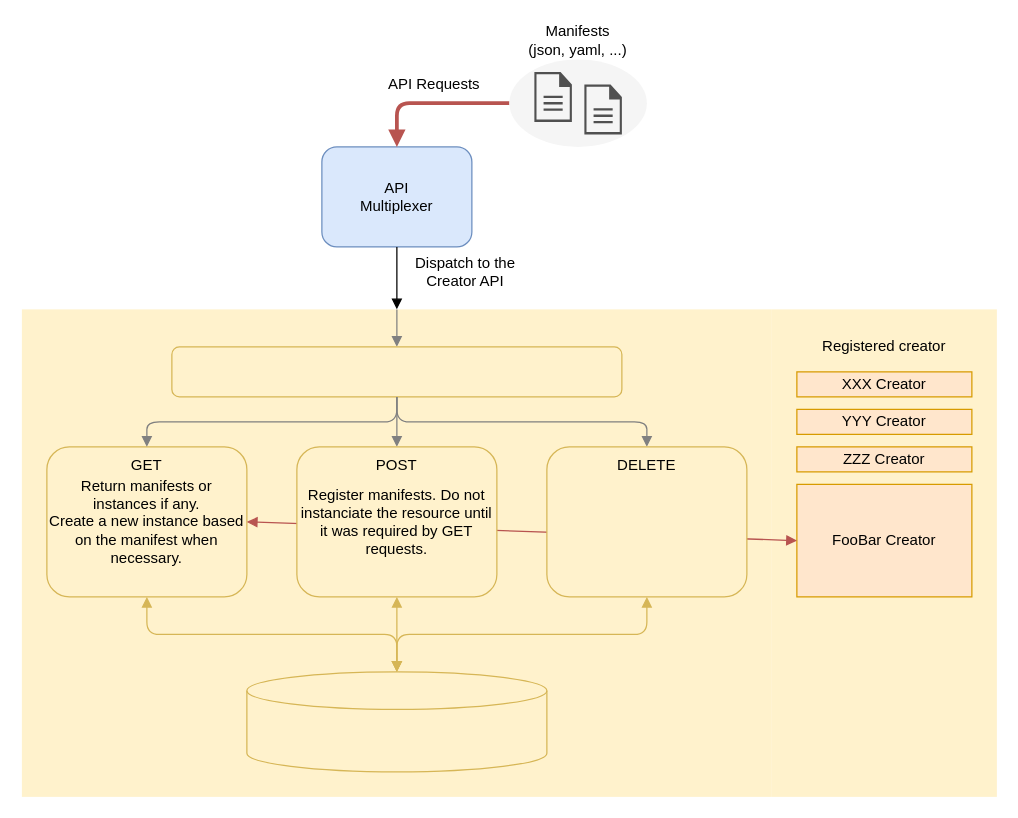
This 1018x818 diagram has some shape labels left out. The shapes that lost their labels are listed below. From the top down, each one's box as (x1, y1, x2, y2) in pixels, then its label:
(171, 346, 622, 397): Serve ( context.Context, *Requests ) ( *Response, error )
(546, 446, 747, 597): Delete manifests or instances stored in the storage if any.
(21, 309, 771, 796): Extension API
(246, 671, 547, 772): Storage (manifests, instances, ...)
